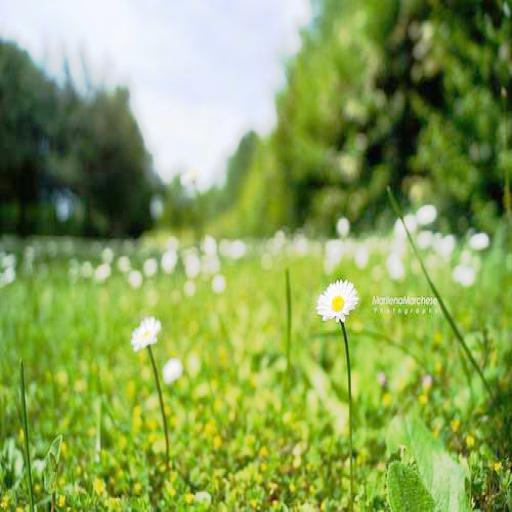daisy: (318, 282, 354, 316), (130, 316, 159, 349)
